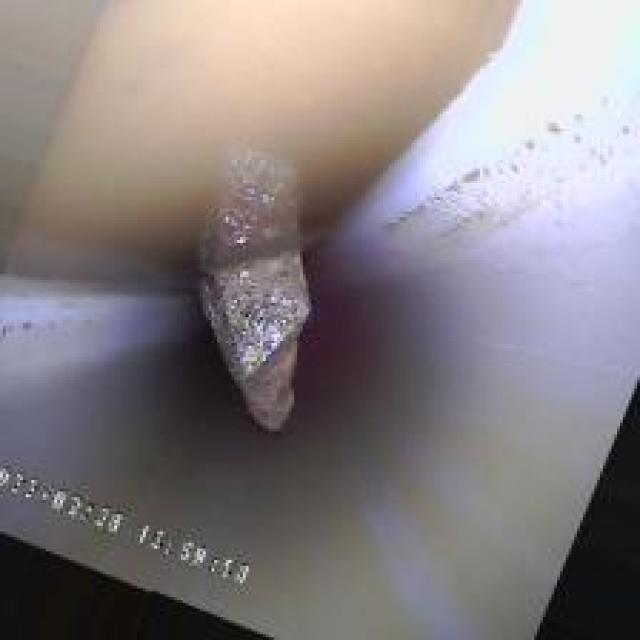stone: (183, 134, 340, 446)
